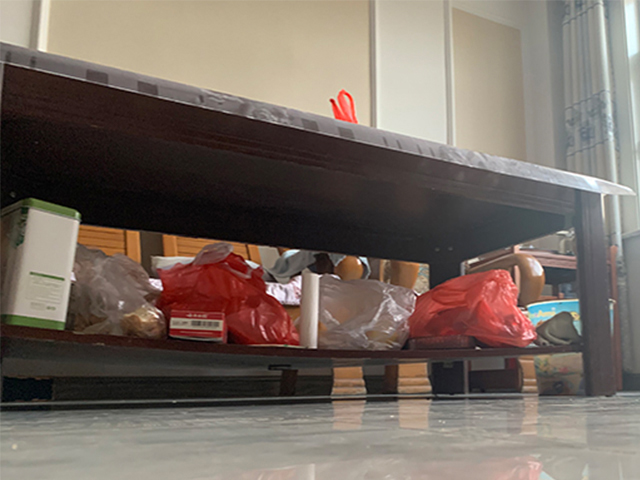curtain: (559, 1, 635, 374)
table: (1, 41, 615, 399)
trashcan: (529, 294, 613, 399)
